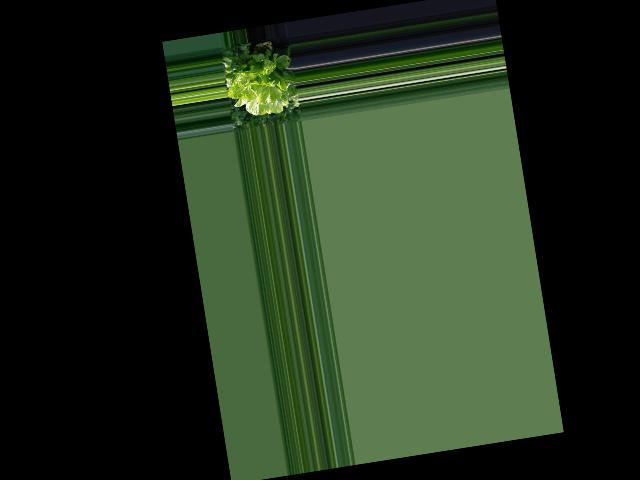lettuce: (229, 50, 298, 118)
